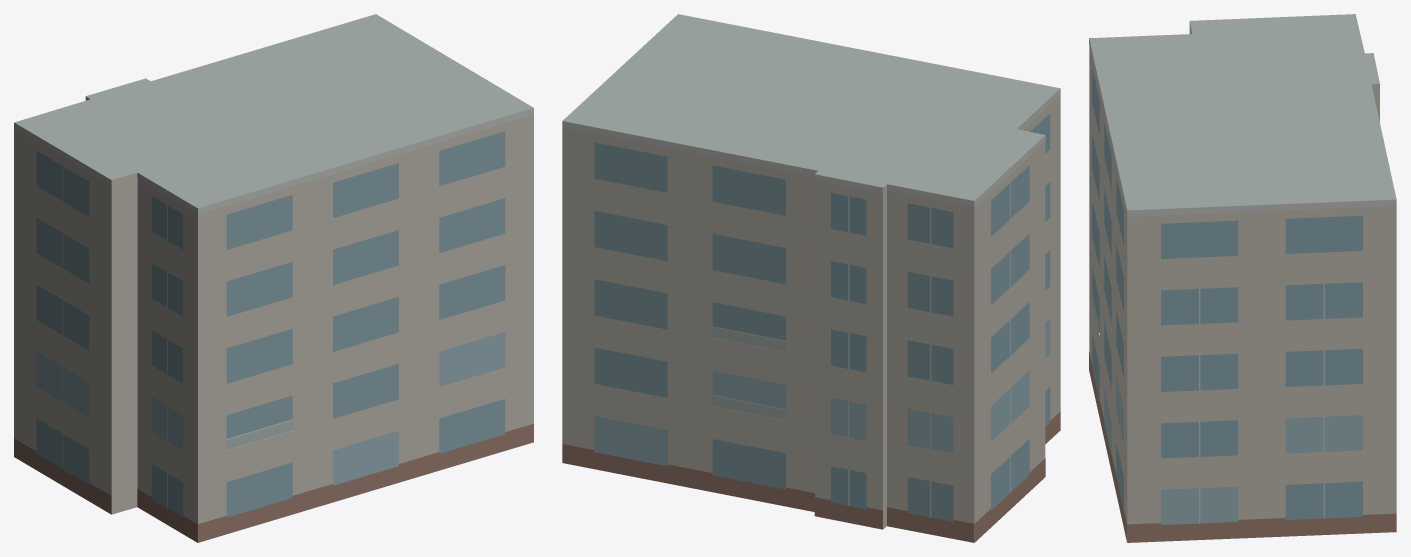
The model's file is survey-upis-32988124.glb.
3 views of the same model, side by side, from view 1: azimuth 30°, elevation 25°; view 2: azimuth 150°, elevation 25°; view 3: azimuth 270°, elevation 25° (orthographic). The views are drawn at different scales.
Visible parts, largest first — view 1: survey-upis-32988124.tmp; view 2: survey-upis-32988124.tmp; view 3: survey-upis-32988124.tmp.
Part boxes in pixels (x1,y1,x2,y2): survey-upis-32988124.tmp: (14, 14, 533, 542); survey-upis-32988124.tmp: (562, 14, 1060, 542); survey-upis-32988124.tmp: (1089, 14, 1396, 542).
Size of the model in its own units: 16.09 by 12.7 by 10.65.
